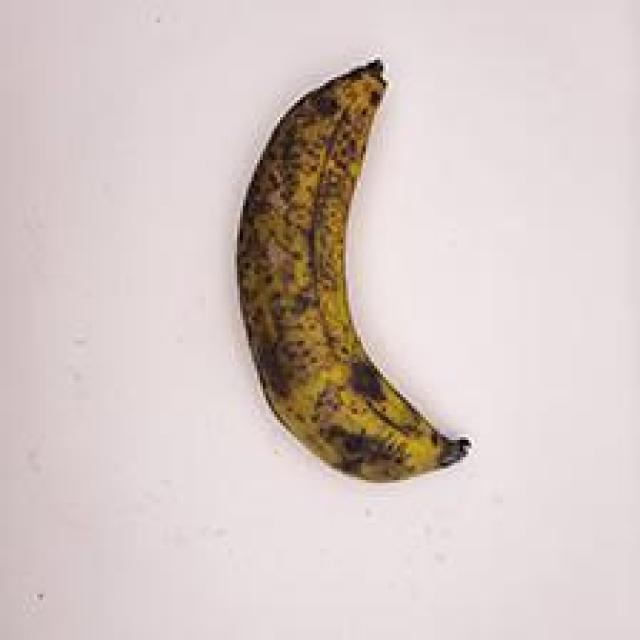Overripe: (174, 39, 505, 508)
